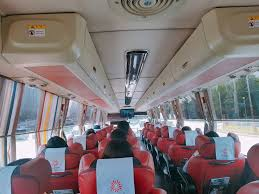seat: (160, 120, 176, 153)
